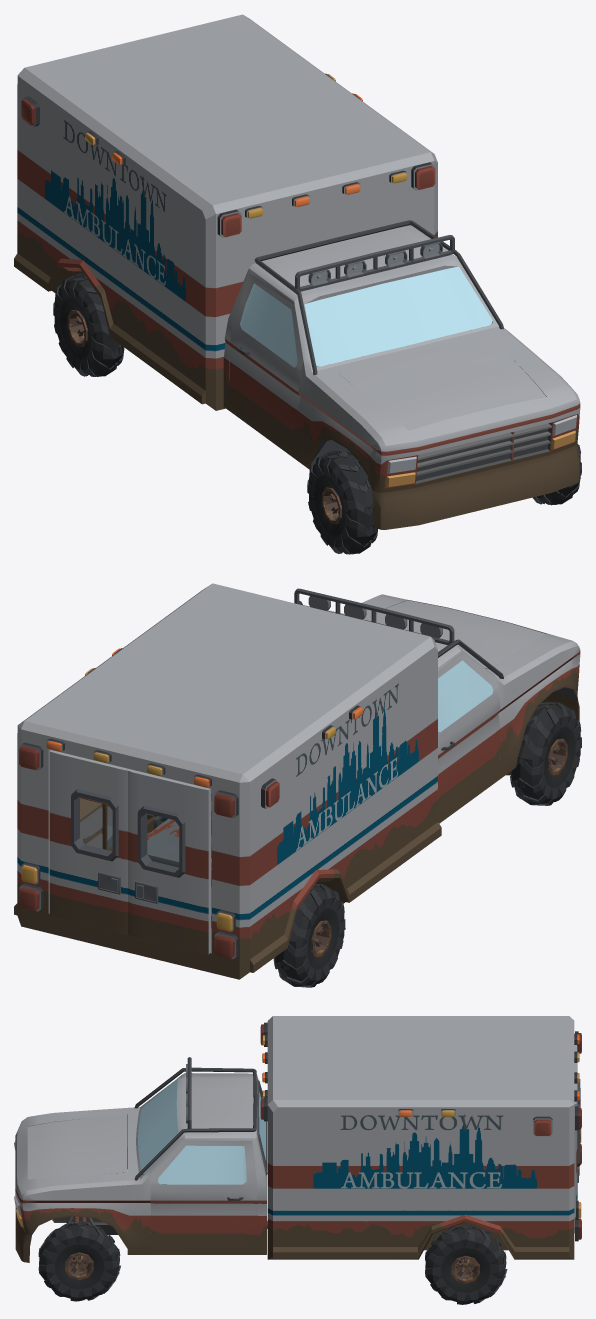
File: Ambu.fbx
The picture shows the model from 3 angles, top to bottom: view 1: azimuth 30°, elevation 25°; view 2: azimuth 150°, elevation 25°; view 3: azimuth 270°, elevation 25°; orthographic projection. The views are drawn at different scales.
Parts seen in each view (by area): view 1: model_0, model_5.001, hood, door_R, wheel_FrontRight, wheel_RearRight, door_R.001; view 2: model_0, door_R, wheel_FrontRight, wheel_RearRight, hood, door_R.001; view 3: model_0, door_L, hood, wheel_RearLeft, wheel_FrontLeft, door_L.001, model_5.001.
Part boxes in pixels (x1,y1,x2,y2): model_0: (14, 14, 580, 529); model_5.001: (304, 266, 492, 366); hood: (339, 337, 545, 430); door_R: (229, 273, 303, 452); wheel_FrontRight: (307, 450, 377, 554); wheel_RearRight: (53, 273, 124, 376); door_R.001: (240, 283, 297, 367); model_0: (14, 583, 580, 979); door_R: (438, 653, 500, 816); wheel_FrontRight: (510, 702, 581, 805); wheel_RearRight: (273, 884, 345, 987); hood: (366, 600, 545, 669); door_R.001: (438, 660, 493, 732); model_0: (14, 1016, 581, 1268); door_L: (150, 1140, 257, 1248); hood: (27, 1114, 127, 1179); wheel_RearLeft: (425, 1225, 507, 1304); wheel_FrontLeft: (38, 1222, 120, 1301); door_L.001: (158, 1145, 246, 1184); model_5.001: (138, 1078, 178, 1174).
Size of the model in its own units: 3.15 by 3.11 by 7.88.
